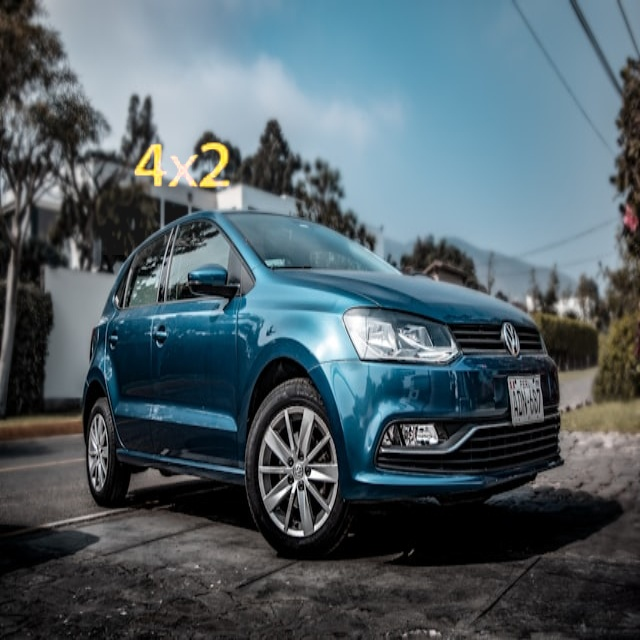symbol: (94, 79, 270, 255)
